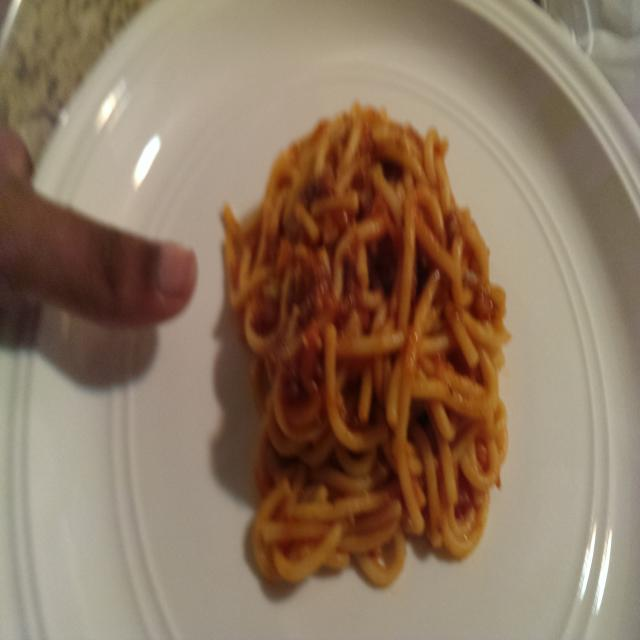pasta: (220, 100, 511, 589)
